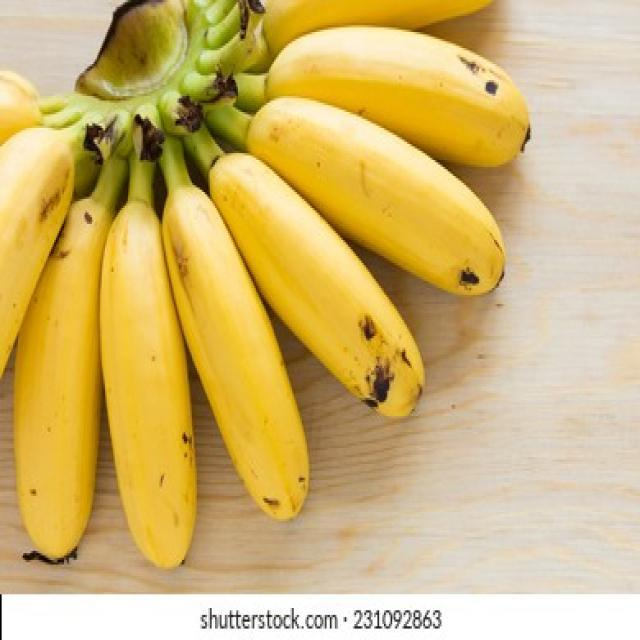banana: (0, 0, 535, 576)
